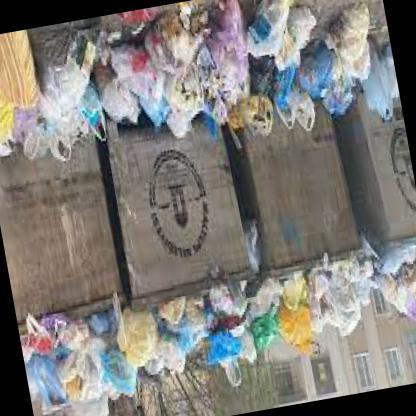Garbage: (73, 0, 308, 135), (192, 0, 332, 135), (89, 4, 206, 136), (119, 284, 261, 390), (19, 307, 134, 415), (253, 262, 379, 354), (27, 24, 104, 143), (313, 0, 398, 106), (365, 245, 415, 328)
